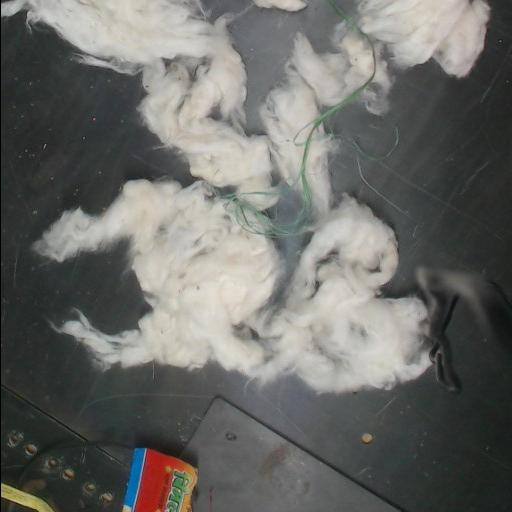conveyor belt: (1, 15, 512, 511), (327, 0, 512, 299), (231, 0, 338, 131), (204, 0, 248, 17)
cotton: (1, 0, 489, 392), (252, 0, 306, 11)
packet: (122, 448, 197, 511)
thread: (212, 82, 369, 238), (1, 440, 133, 511), (325, 0, 376, 117), (345, 137, 383, 191), (326, 0, 368, 39), (385, 127, 398, 156)
